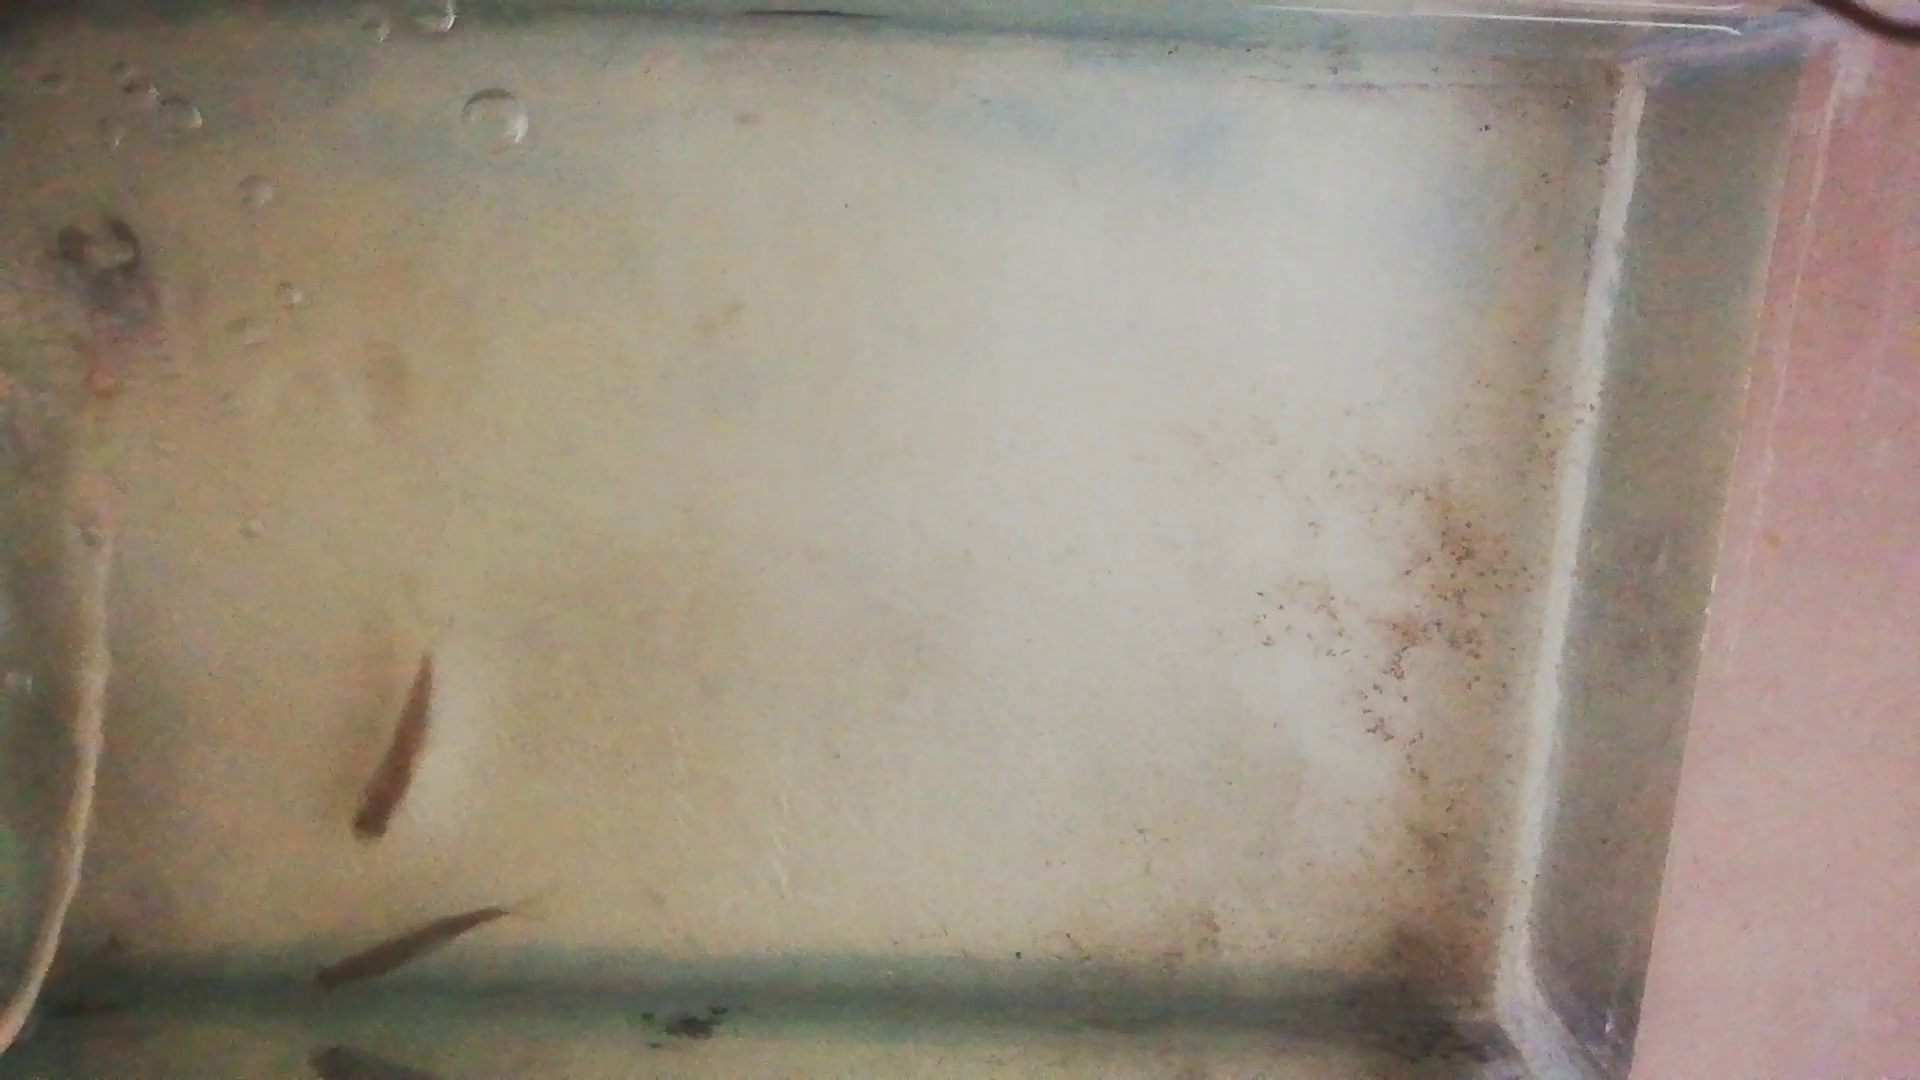fish: (314, 905, 505, 1000), (351, 651, 436, 844)
